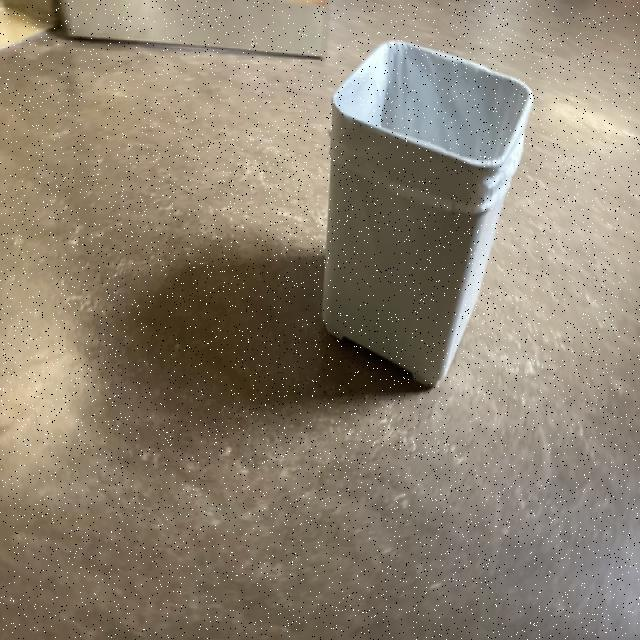garbage container: (280, 31, 544, 417)
